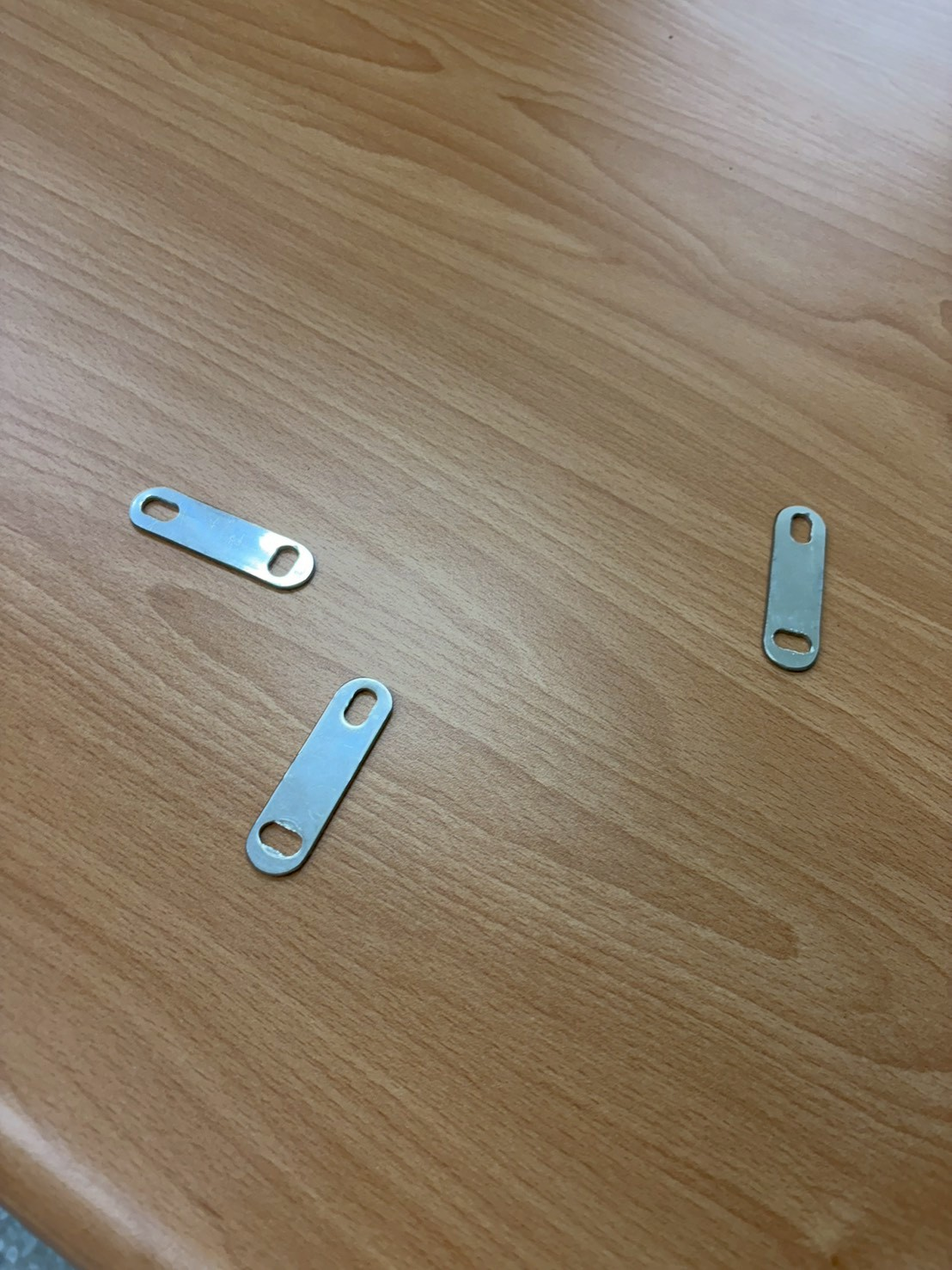Fe: (248, 666, 391, 882), (122, 469, 313, 595), (758, 492, 834, 670)
